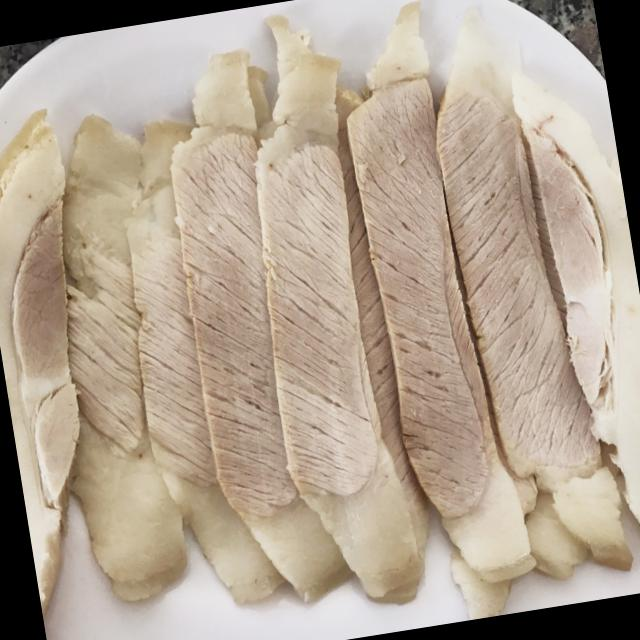thit luoc: (0, 17, 424, 602), (349, 3, 640, 618)
